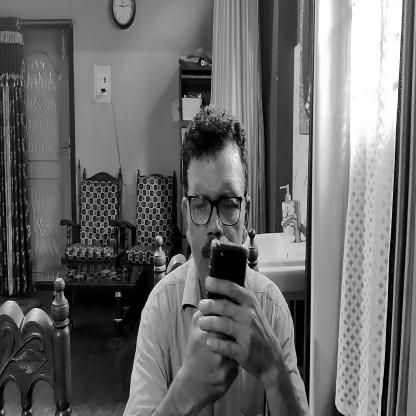Normal: (182, 120, 243, 249)
